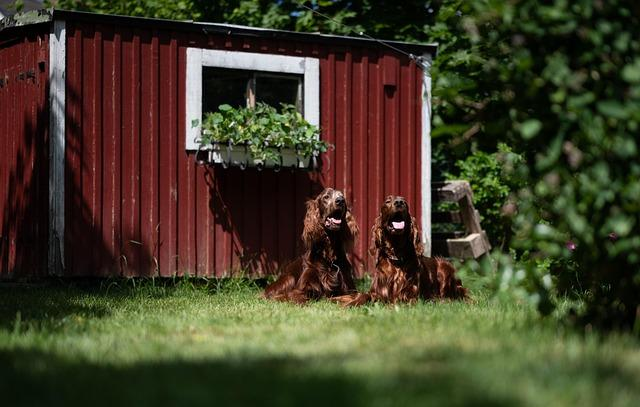Non_Gorille: (28, 0, 490, 318)
